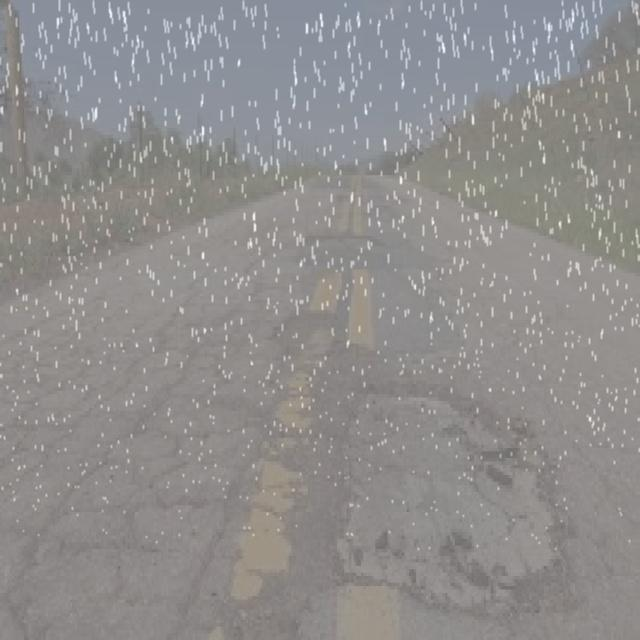Pothole: (313, 355, 596, 640), (301, 232, 386, 252)
